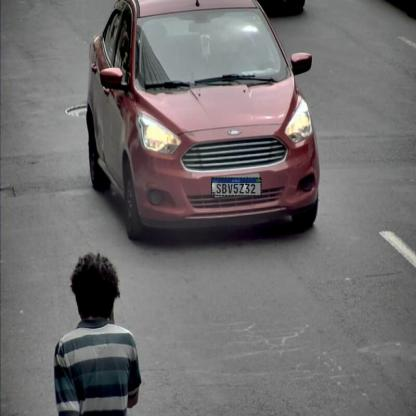PlacaM: (211, 178, 262, 196)
